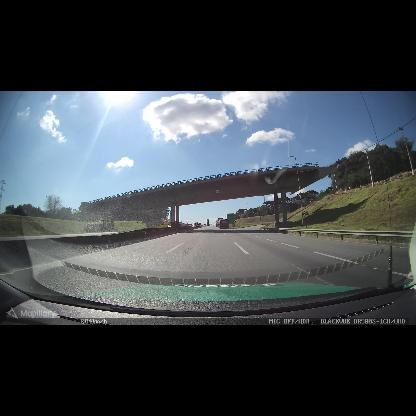R-15: (215, 189, 220, 194)
R-19: (303, 211, 309, 217)
